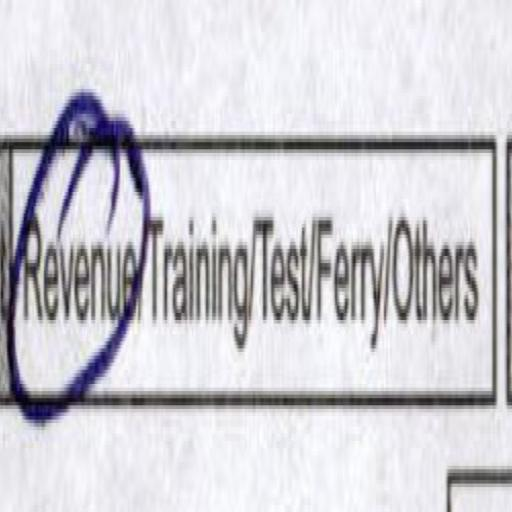check: (18, 66, 146, 422)
